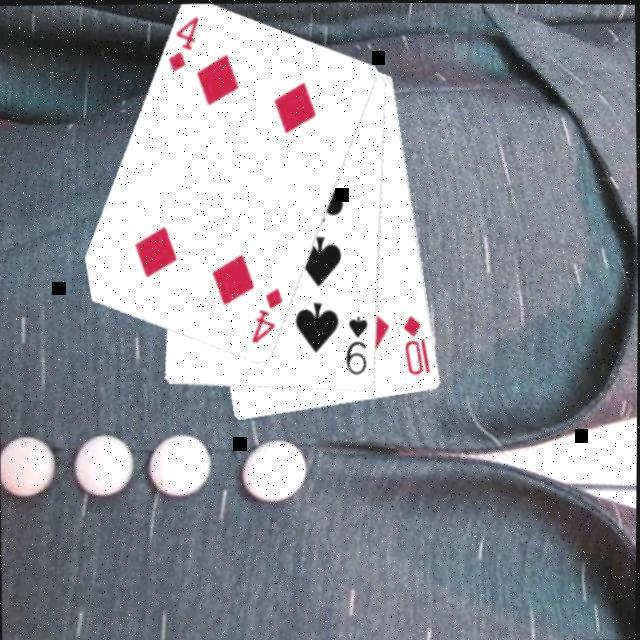10D: (401, 310, 435, 377)
4D: (248, 283, 287, 346), (164, 11, 203, 74)
9S: (343, 311, 372, 377)
